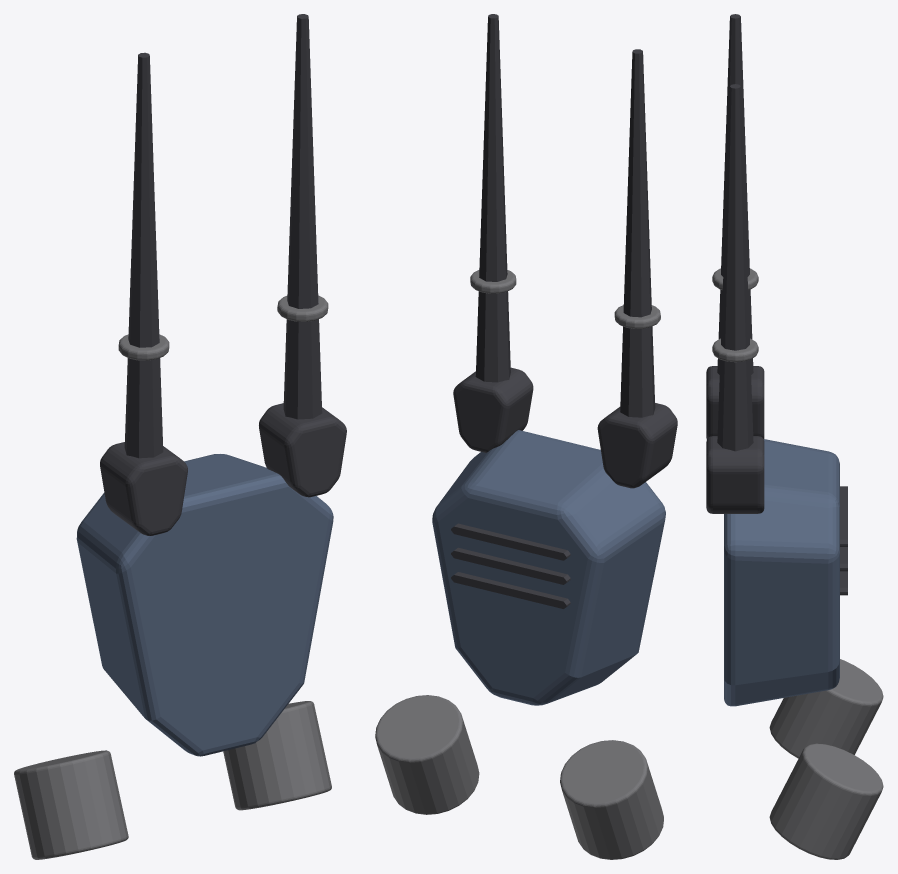
File: recon_sleek_booster.glb
3 renders of one model, left to right at view 1: azimuth 30°, elevation 25°; view 2: azimuth 150°, elevation 25°; view 3: azimuth 270°, elevation 25°, orthographic. The views are drawn at different scales.
Parts seen in each view (by area): view 1: Backpack, Mast1, Mast, Nozzle1, Nozzle, MastBase1, MastBase, MastRing1, MastRing; view 2: Backpack, Nozzle, Nozzle1, Mast, Mast1, MastBase1, MastBase, Grille, Grille2, Grille1, MastRing, MastRing1; view 3: Backpack, Nozzle, Mast, Nozzle1, MastBase, Mast1, MastBase1, MastRing, Grille.
Boxes of the visible parts, x1,y1,x2,y2 form: Backpack: (76, 454, 333, 756); Mast1: (124, 52, 163, 458); Mast: (283, 14, 322, 419); Nozzle1: (14, 750, 128, 859); Nozzle: (223, 701, 331, 810); MastBase1: (100, 442, 187, 535); MastBase: (259, 403, 346, 497); MastRing1: (118, 334, 169, 360); MastRing: (277, 295, 328, 321); Backpack: (432, 430, 665, 705); Nozzle: (375, 695, 479, 814); Nozzle1: (560, 740, 663, 859); Mast: (475, 14, 510, 382); Mast1: (620, 49, 655, 417); MastBase1: (597, 403, 677, 488); MastBase: (453, 367, 533, 452); Grille: (451, 523, 570, 560); Grille2: (451, 572, 570, 608); Grille1: (451, 547, 570, 584); MastRing: (470, 270, 516, 293); MastRing1: (614, 305, 660, 328); Backpack: (724, 439, 839, 706); Nozzle: (769, 743, 883, 859); Mast: (717, 84, 753, 451); Nozzle1: (769, 659, 883, 758); MastBase: (706, 436, 764, 513); Mast1: (717, 14, 753, 374); MastBase1: (706, 366, 764, 439); MastRing: (712, 338, 758, 362); Grille: (840, 486, 847, 546).
Size of the model in its own units: 1.82 by 5.03 by 1.07.
